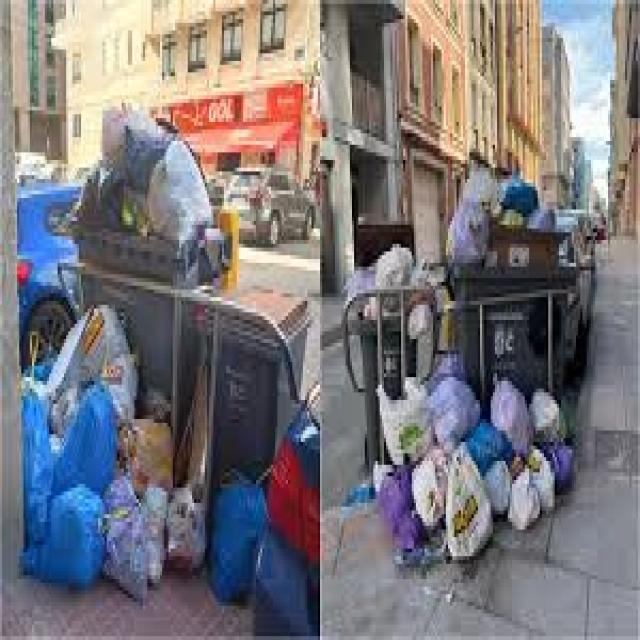garbage: (20, 82, 318, 600), (341, 154, 585, 577)
